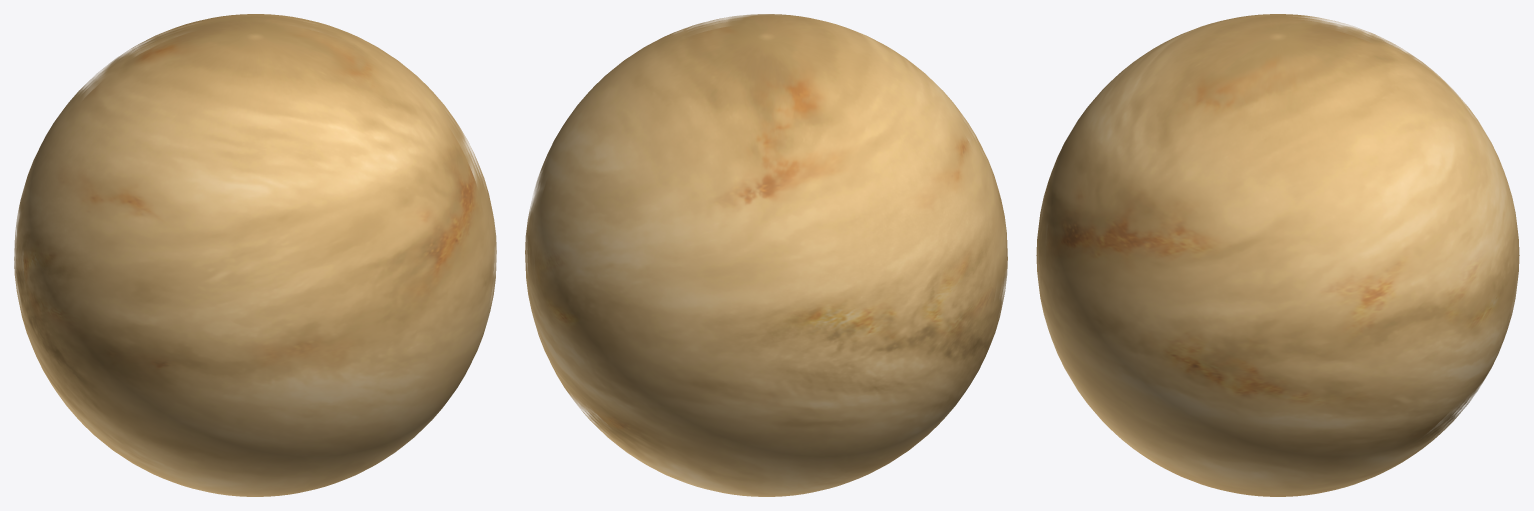
The model's file is Venus.gltf.
3 views of the same model, side by side, from view 1: azimuth 30°, elevation 25°; view 2: azimuth 150°, elevation 25°; view 3: azimuth 270°, elevation 25° (orthographic).
Parts seen in each view (by area): view 1: Venus_Atmosphere_04, Venus_Atmosphere_03, Venus, Venus_Atmosphere_02; view 2: Venus_Atmosphere_04, Venus_Atmosphere_03, Venus, Venus_Atmosphere_02; view 3: Venus_Atmosphere_04, Venus_Atmosphere_03, Venus, Venus_Atmosphere_02.
Boxes of the visible parts, x1,y1,x2,y2 form: Venus_Atmosphere_04: (14, 14, 496, 496); Venus_Atmosphere_03: (17, 17, 493, 386); Venus: (24, 44, 475, 368); Venus_Atmosphere_02: (21, 32, 479, 369); Venus_Atmosphere_04: (525, 14, 1007, 496); Venus_Atmosphere_03: (527, 19, 1002, 438); Venus: (542, 78, 986, 427); Venus_Atmosphere_02: (535, 27, 989, 431); Venus_Atmosphere_04: (1036, 14, 1519, 496); Venus_Atmosphere_03: (1040, 17, 1509, 449); Venus: (1057, 62, 1496, 403); Venus_Atmosphere_02: (1046, 32, 1500, 438).
Size of the model in its own units: 20.8 by 20.8 by 20.8.
2 materials, 2 textured.
